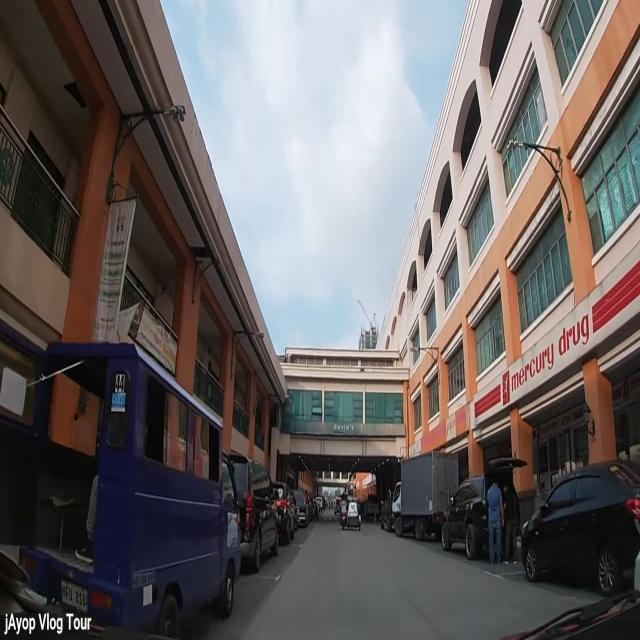car: (15, 340, 241, 640), (520, 462, 639, 596), (440, 454, 528, 560), (218, 448, 280, 570), (269, 482, 295, 545), (379, 483, 402, 533), (290, 488, 310, 535), (363, 495, 381, 522), (314, 497, 324, 512)
tricycle: (341, 494, 362, 531)
truck: (390, 451, 460, 544)
